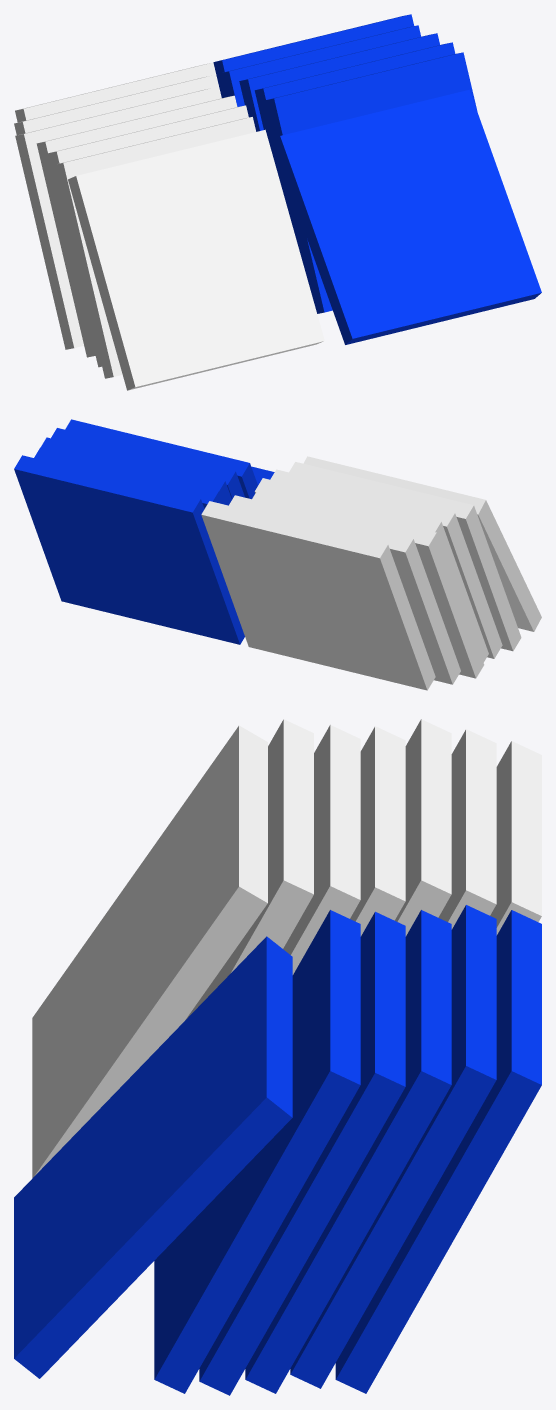
The model's file is Pizza_ehb1pe_Pack02.fbx.
The picture shows the model from 3 angles, top to bottom: view 1: azimuth 30°, elevation 25°; view 2: azimuth 150°, elevation 25°; view 3: azimuth 270°, elevation 25°; orthographic projection. The views are drawn at different scales.
Parts seen in each view (by area): view 1: PizzaBox_ehb1pe_Pack02; view 2: PizzaBox_ehb1pe_Pack02; view 3: PizzaBox_ehb1pe_Pack02.
Part boxes in pixels (x1,y1,x2,y2): PizzaBox_ehb1pe_Pack02: (14, 14, 541, 390); PizzaBox_ehb1pe_Pack02: (14, 419, 541, 690); PizzaBox_ehb1pe_Pack02: (14, 719, 541, 1395).
Bounding box in the file's own units: 65.75 × 28.01 × 41.48.
